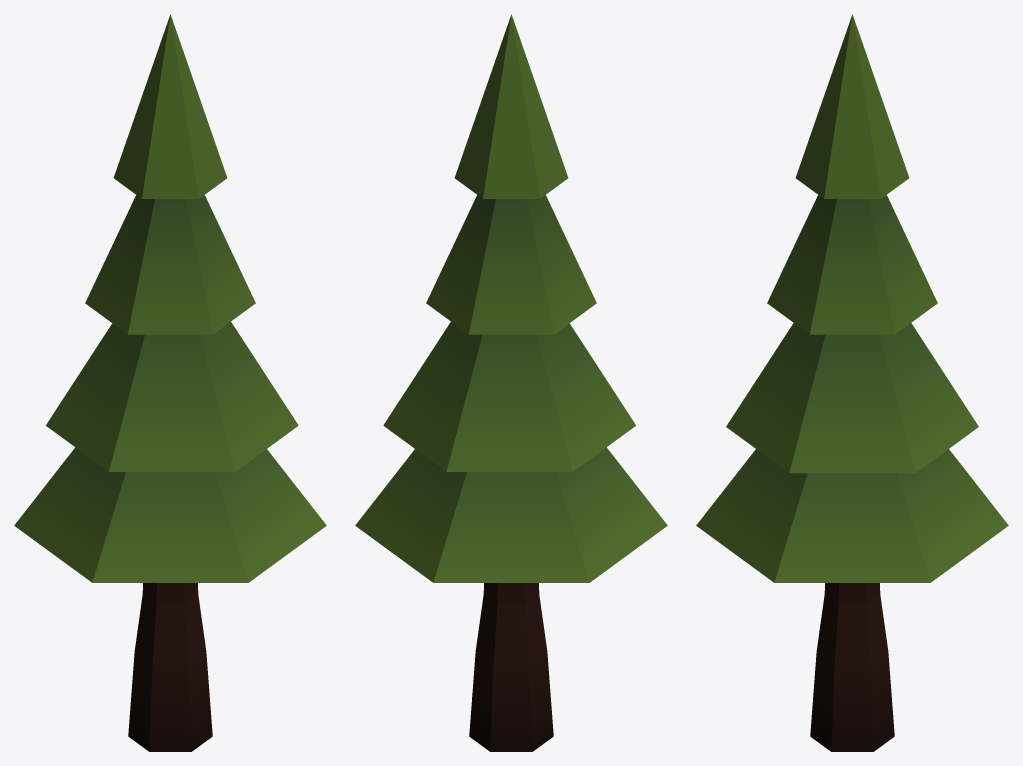
The model's file is PropsTree_v2.fbx.
3 renders of one model, left to right at view 1: azimuth 30°, elevation 25°; view 2: azimuth 150°, elevation 25°; view 3: azimuth 270°, elevation 25°, orthographic.
Visible parts, largest first — view 1: Tree_v2; view 2: Tree_v2; view 3: Tree_v2.
Part boxes in pixels (x1,y1,x2,y2): Tree_v2: [14, 14, 326, 751]; Tree_v2: [355, 14, 667, 751]; Tree_v2: [696, 14, 1008, 751].
Bounding box in the file's own units: 3.07 × 9.02 × 3.54.
